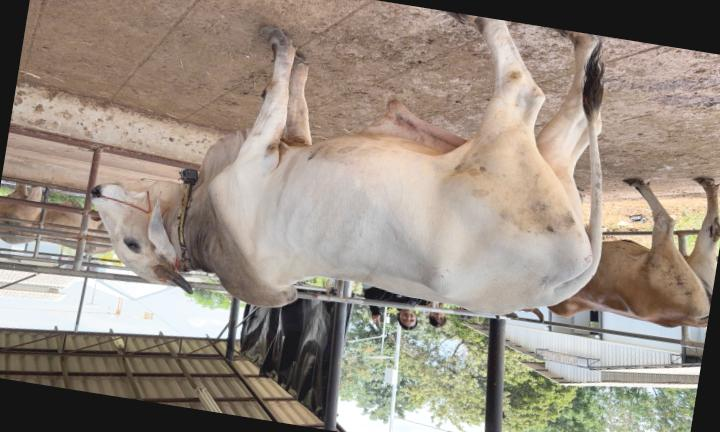Brahman: (93, 11, 602, 314)
